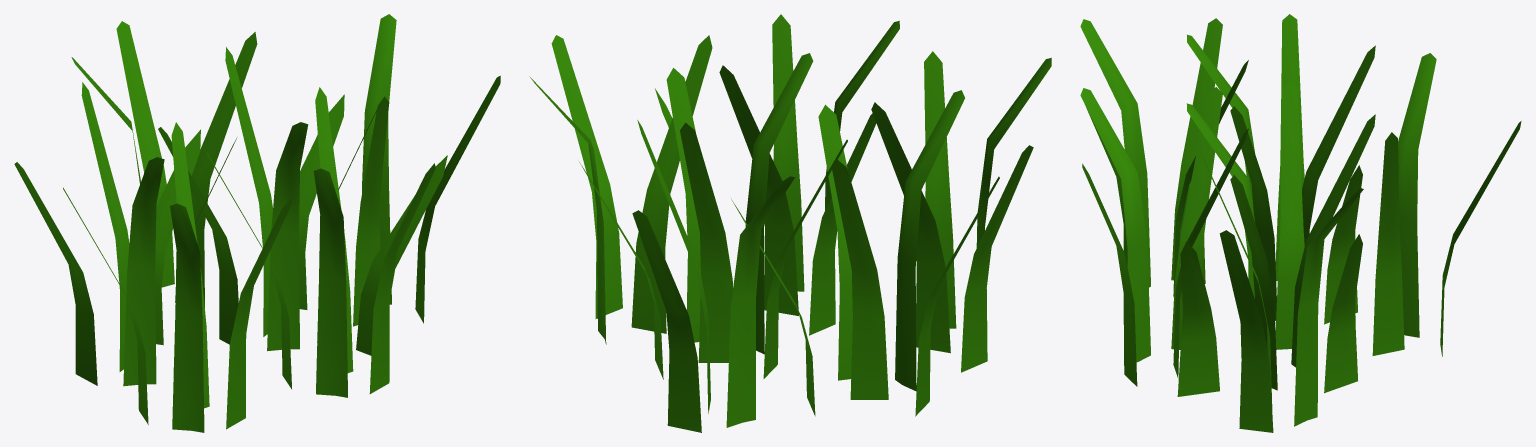
Rendered from GrassPatch01.fbx.
3 renders of one model, left to right at view 1: azimuth 30°, elevation 25°; view 2: azimuth 150°, elevation 25°; view 3: azimuth 270°, elevation 25°, orthographic. The views are drawn at different scales.
Parts seen in each view (by area): view 1: GrassPatch; view 2: GrassPatch; view 3: GrassPatch.
Part boxes in pixels (left/top/right/bottom): GrassPatch: left=14, top=14, right=500, bottom=432; GrassPatch: left=529, top=14, right=1051, bottom=432; GrassPatch: left=1080, top=14, right=1521, bottom=432.
Size of the model in its own units: 1.52 by 0.8303 by 1.31.
